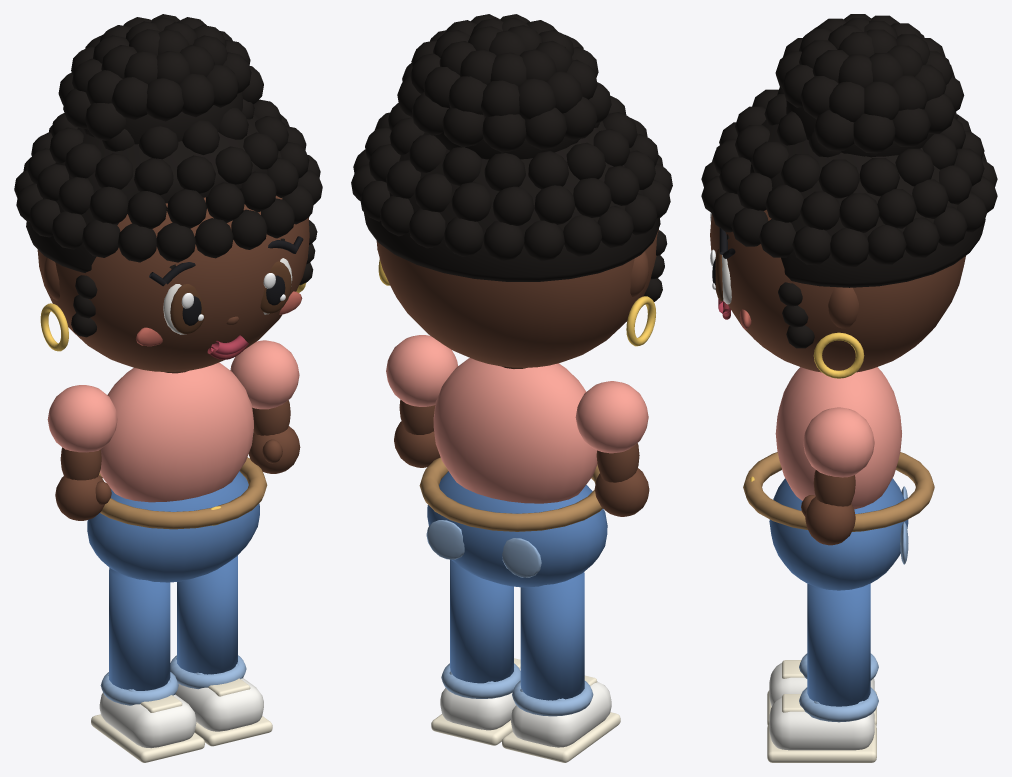
File: chibi-mom.glb
The picture shows the model from 3 angles, left to right: view 1: azimuth 30°, elevation 25°; view 2: azimuth 150°, elevation 25°; view 3: azimuth 270°, elevation 25°; orthographic projection. The views are drawn at different scales.
Visible parts, largest first — view 1: head.002-textured black hair, head.002-deep brown skin, torso.002-coral tee, torso.002-blue denim, leg-left.002-blue denim, leg-right.002-blue denim, arm-left.002-coral tee, torso.002-tan belt, arm-right.002-coral tee, leg-left.002-white sneakers, arm-left.002-deep brown skin, leg-right.002-white sneakers (+9 smaller); view 2: head.002-textured black hair, head.002-deep brown skin, torso.002-coral tee, torso.002-blue denim, leg-left.002-blue denim, leg-right.002-blue denim, torso.002-tan belt, arm-left.002-coral tee, arm-right.002-coral tee, leg-left.002-white sneakers, arm-left.002-deep brown skin, torso.002-light denim (+7 smaller); view 3: head.002-textured black hair, head.002-deep brown skin, torso.002-coral tee, leg-right.002-blue denim, torso.002-blue denim, torso.002-tan belt, arm-right.002-coral tee, leg-right.002-white sneakers, arm-right.002-deep brown skin, leg-right.002-cream accents, leg-right.002-light denim, head.002-gold (+2 smaller).
Part boxes in pixels (x1,y1,x2,y2): head.002-textured black hair: (14, 14, 322, 337); head.002-deep brown skin: (37, 195, 309, 373); torso.002-coral tee: (100, 362, 253, 502); torso.002-blue denim: (87, 471, 259, 582); leg-left.002-blue denim: (109, 568, 170, 690); leg-right.002-blue denim: (177, 555, 237, 674); arm-left.002-coral tee: (47, 385, 117, 452); torso.002-tan belt: (99, 457, 267, 529); arm-right.002-coral tee: (230, 340, 299, 409); leg-left.002-white sneakers: (99, 692, 196, 748); arm-left.002-deep brown skin: (55, 447, 111, 520); leg-right.002-white sneakers: (175, 678, 263, 731); head.002-textured black hair: (351, 14, 672, 301); head.002-deep brown skin: (376, 229, 658, 368); torso.002-coral tee: (433, 358, 597, 503); torso.002-blue denim: (427, 471, 607, 587); leg-left.002-blue denim: (520, 572, 584, 700); leg-right.002-blue denim: (450, 559, 513, 683); torso.002-tan belt: (419, 457, 602, 531); arm-left.002-coral tee: (575, 381, 648, 453); arm-right.002-coral tee: (386, 335, 457, 406); leg-left.002-white sneakers: (511, 681, 611, 747); arm-left.002-deep brown skin: (594, 443, 649, 516); torso.002-light denim: (426, 520, 541, 577); head.002-textured black hair: (701, 14, 997, 348); head.002-deep brown skin: (710, 209, 965, 372); torso.002-coral tee: (775, 367, 901, 509); leg-right.002-blue denim: (807, 584, 870, 706); torso.002-blue denim: (769, 478, 908, 590); torso.002-tan belt: (743, 452, 934, 531); arm-right.002-coral tee: (803, 407, 874, 477); leg-right.002-white sneakers: (769, 696, 874, 750); arm-right.002-deep brown skin: (801, 470, 855, 545); leg-right.002-cream accents: (767, 694, 876, 762); leg-right.002-light denim: (799, 687, 878, 722); head.002-gold: (813, 332, 864, 378).
Size of the model in its own units: 1.53 by 3.69 by 1.41.
